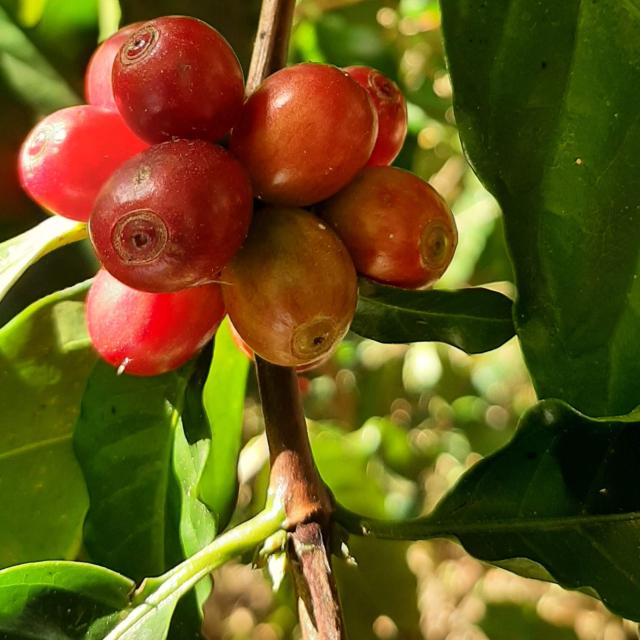red: (88, 139, 253, 293), (230, 62, 378, 206), (111, 15, 244, 143), (17, 104, 149, 221), (85, 269, 225, 376), (343, 65, 408, 166), (84, 21, 143, 111)
yellow: (221, 206, 358, 367), (316, 166, 459, 289)
